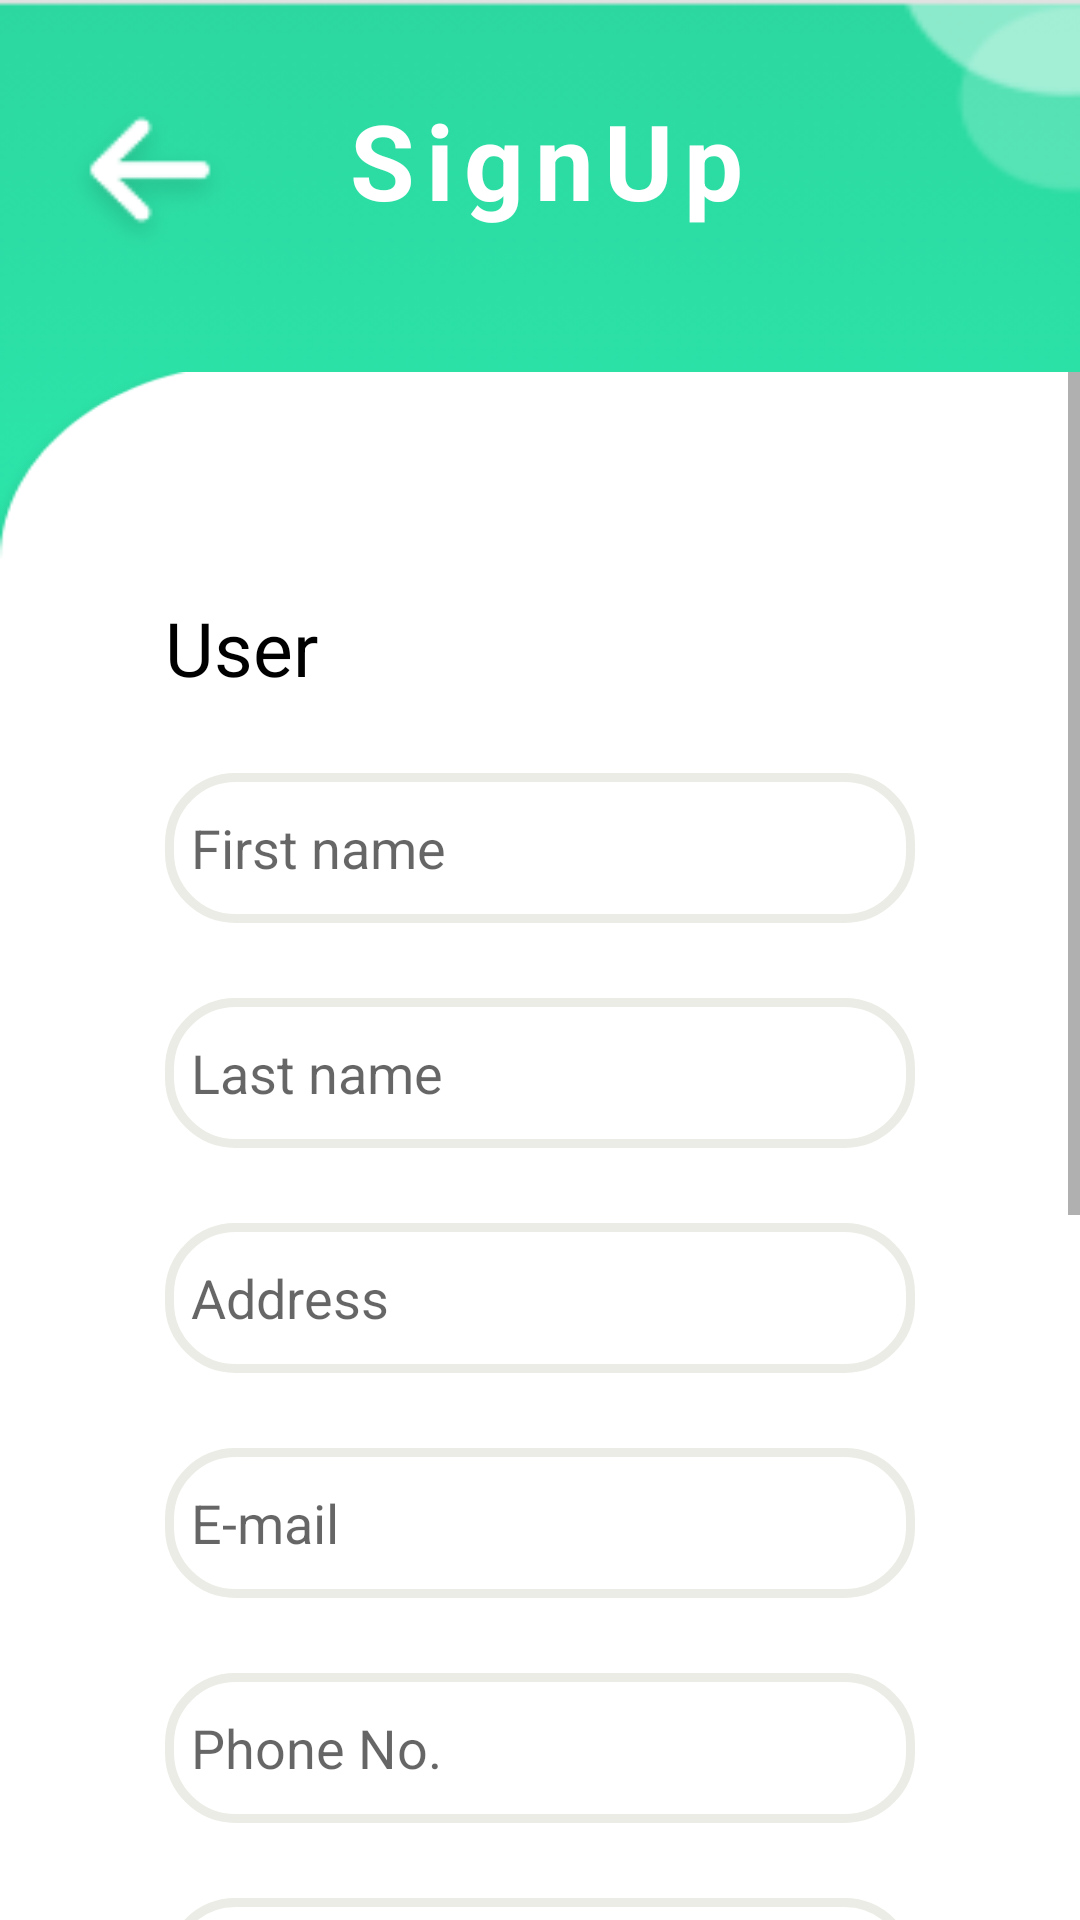

Icon click points for this 1080*1920 phone screenshot, format (x=x, y=y):
back: (x=150, y=170)
